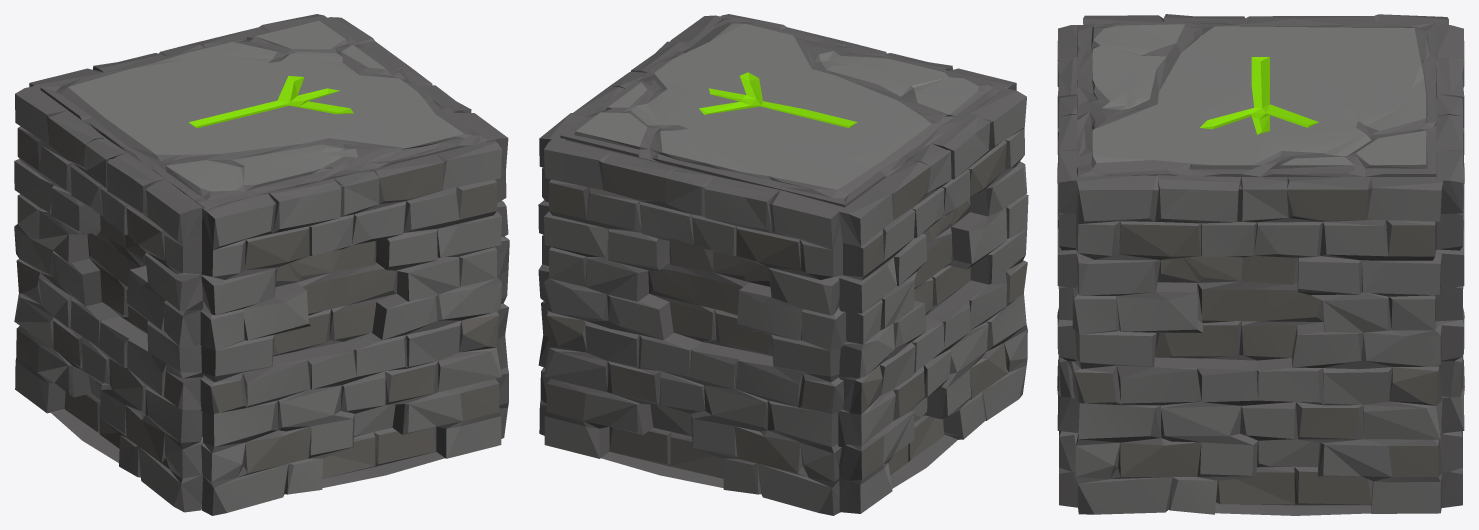
File: SM_Env_Tiles_C_05.glb
3 renders of one model, left to right at view 1: azimuth 30°, elevation 25°; view 2: azimuth 150°, elevation 25°; view 3: azimuth 270°, elevation 25°, orthographic. The views are drawn at different scales.
Parts seen in each view (by area): view 1: SM_Env_Tiles_C_05; view 2: SM_Env_Tiles_C_05; view 3: SM_Env_Tiles_C_05.
Boxes of the visible parts, x1,y1,x2,y2 form: SM_Env_Tiles_C_05: (14,14,509,515); SM_Env_Tiles_C_05: (538,14,1028,515); SM_Env_Tiles_C_05: (1057,14,1464,515).
Size of the model in its own units: 5.74 by 5.2 by 5.68.
Materials: 1 (1 with a texture image).
